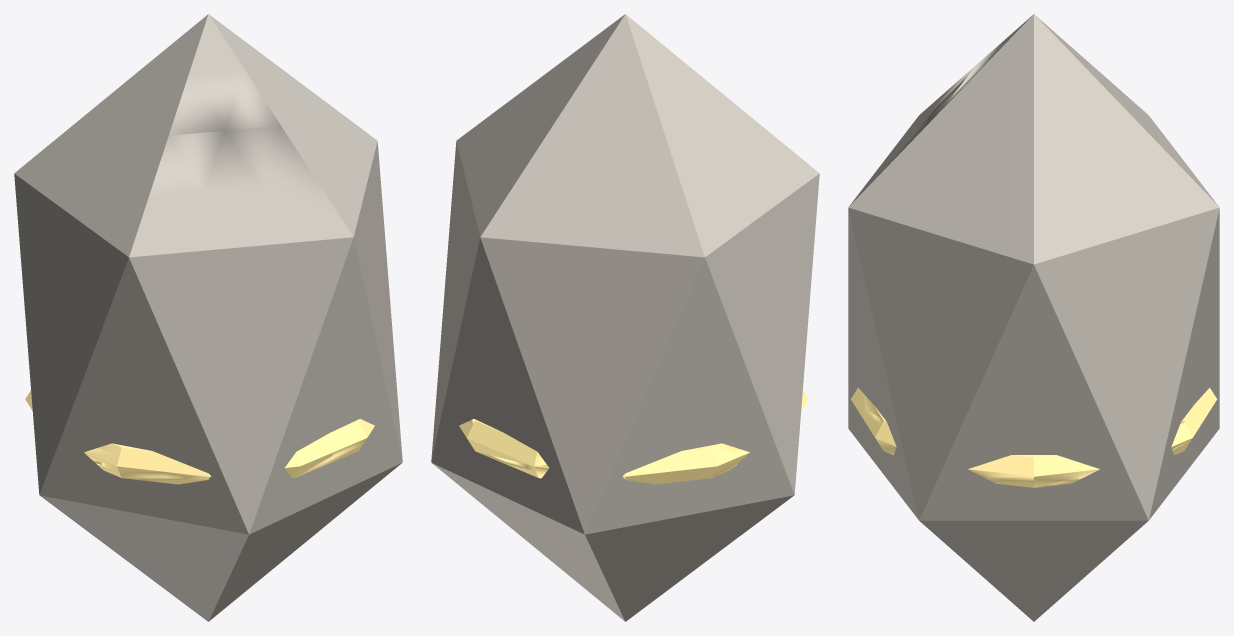
The model's file is egg_large.glb.
3 views of the same model, side by side, from view 1: azimuth 30°, elevation 25°; view 2: azimuth 150°, elevation 25°; view 3: azimuth 270°, elevation 25° (orthographic).
Parts seen in each view (by area): view 1: EggShell; view 2: EggShell; view 3: EggShell.
Boxes of the visible parts, x1,y1,x2,y2 form: EggShell: (14, 14, 402, 621); EggShell: (431, 14, 819, 621); EggShell: (848, 14, 1219, 621).
Size of the model in its own units: 1 by 1.72 by 0.9527.
